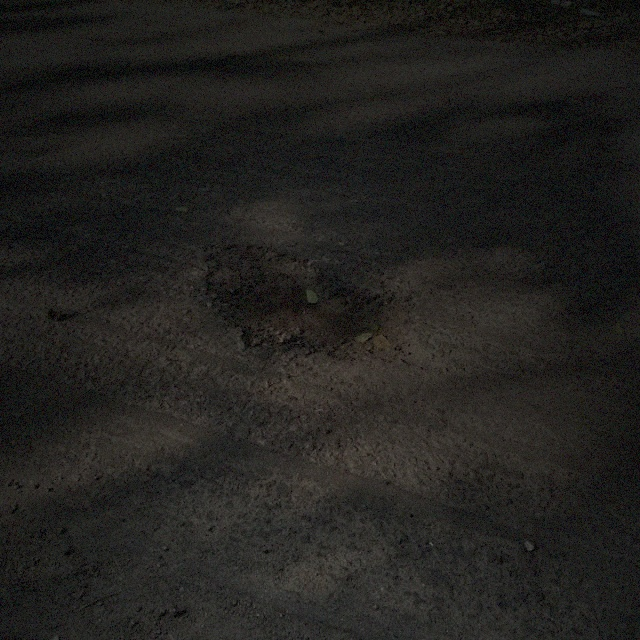pothole: (195, 239, 417, 367)
